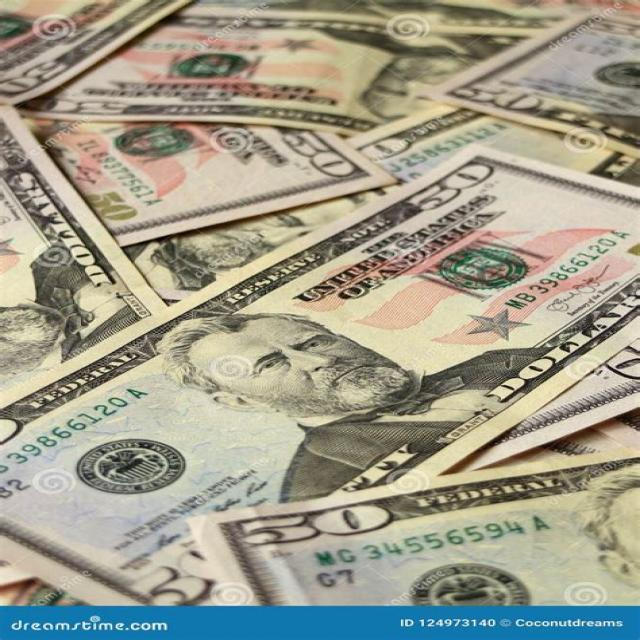Fifty: (0, 145, 639, 606), (184, 443, 640, 604), (0, 102, 184, 407), (12, 27, 578, 119), (16, 114, 402, 247), (427, 13, 639, 162)
